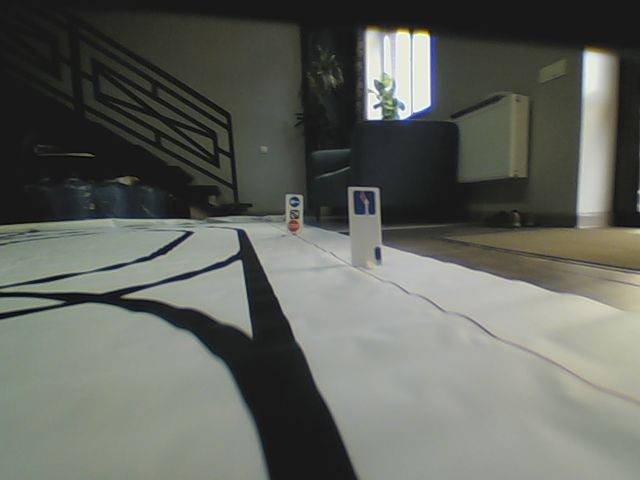priority_movement: (352, 190, 377, 216)
